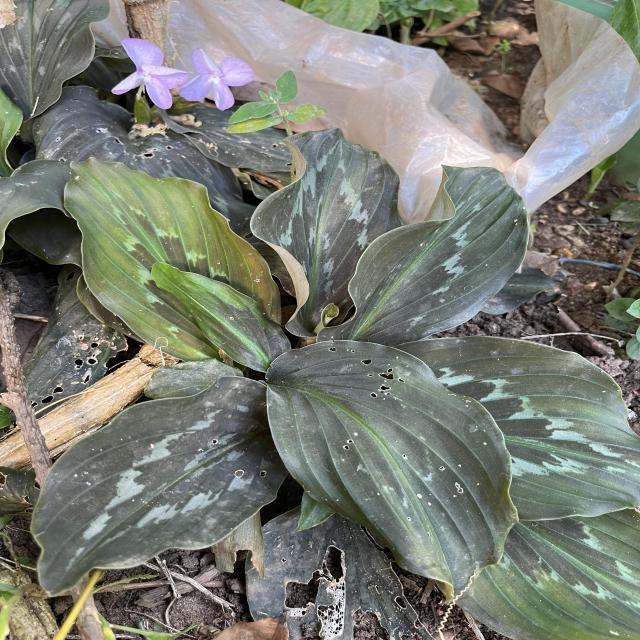Kaempferia galanga linn: (262, 337, 524, 606), (27, 374, 289, 599), (390, 332, 640, 522), (62, 156, 286, 364), (314, 162, 532, 348), (248, 126, 404, 340), (149, 258, 294, 374)
